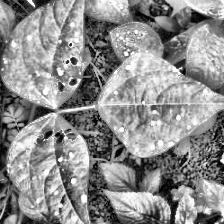Bean Rust: (99, 56, 224, 150), (8, 114, 100, 224), (1, 0, 93, 104), (68, 0, 134, 27)
